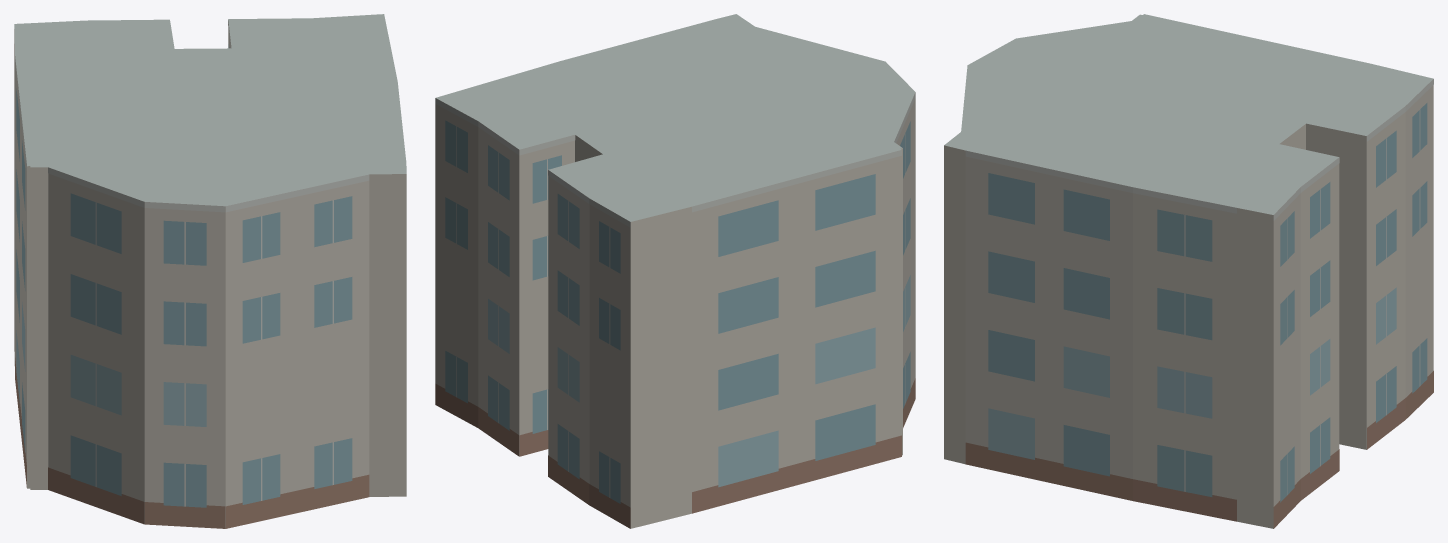
The model's file is survey-upis-32663683.glb.
3 views of the same model, side by side, from view 1: azimuth 30°, elevation 25°; view 2: azimuth 150°, elevation 25°; view 3: azimuth 270°, elevation 25° (orthographic). The views are drawn at different scales.
Parts seen in each view (by area): view 1: survey-upis-32663683.tmp; view 2: survey-upis-32663683.tmp; view 3: survey-upis-32663683.tmp.
Boxes of the visible parts, x1,y1,x2,y2 form: survey-upis-32663683.tmp: (14, 14, 406, 528); survey-upis-32663683.tmp: (435, 14, 915, 528); survey-upis-32663683.tmp: (944, 14, 1433, 528).
Bounding box in the file's own units: 17.6 × 12.8 × 18.11.
